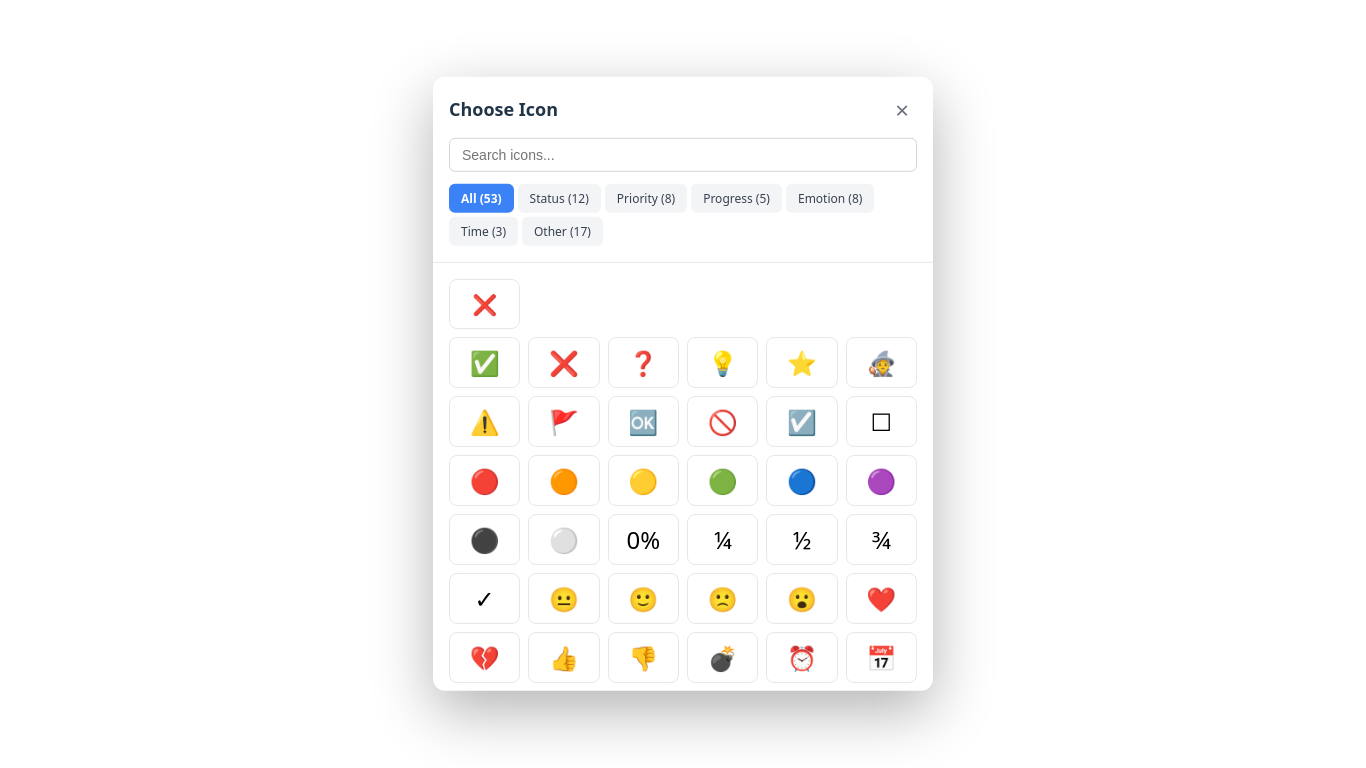
Scenario: IconPicker › when searching for icons › should show no results message when no icons match
The width and height of the screenshot is (1366, 768).
In the field named "Search icons by name or ID": point(683, 155) [449,138,917,172], type "nonexistent"
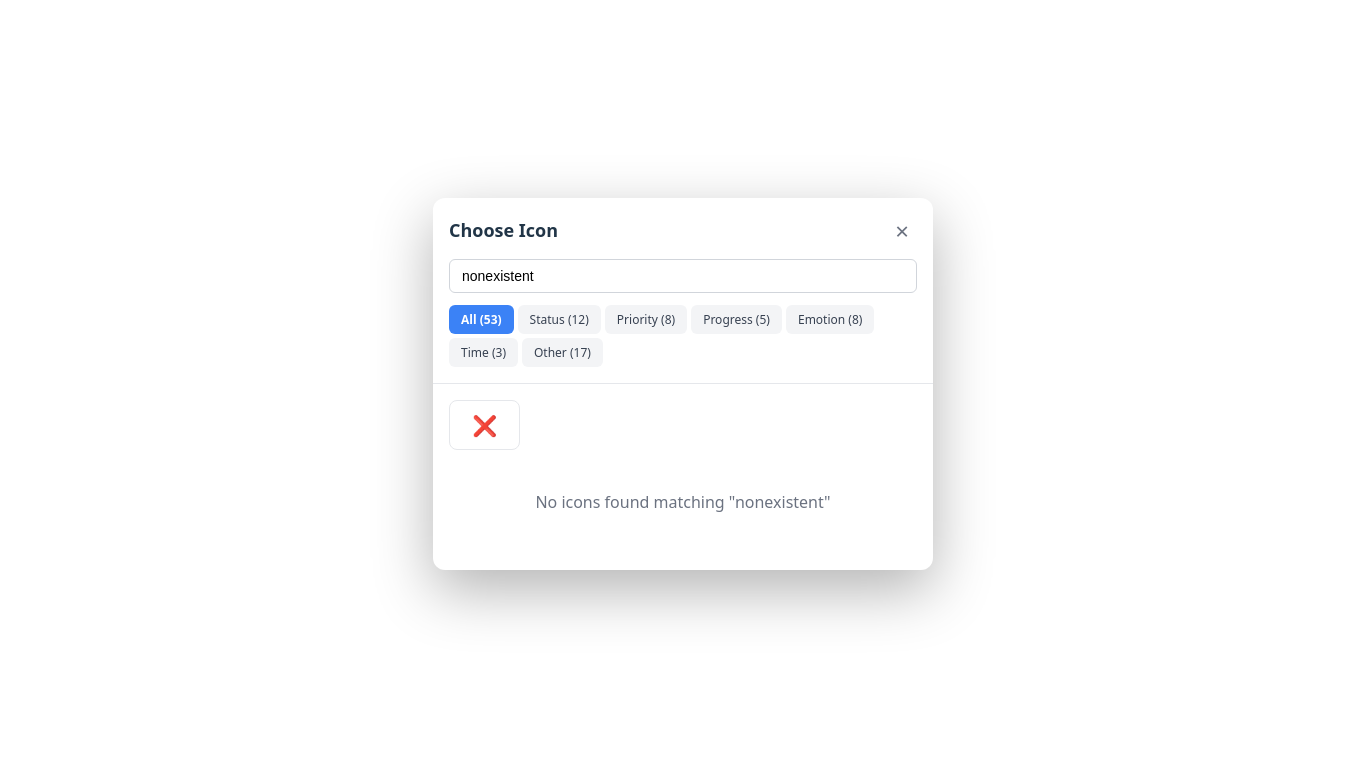
Expected: the text "No icons found matching \"nonexistent\"" is shown, [535,491,831,513]
